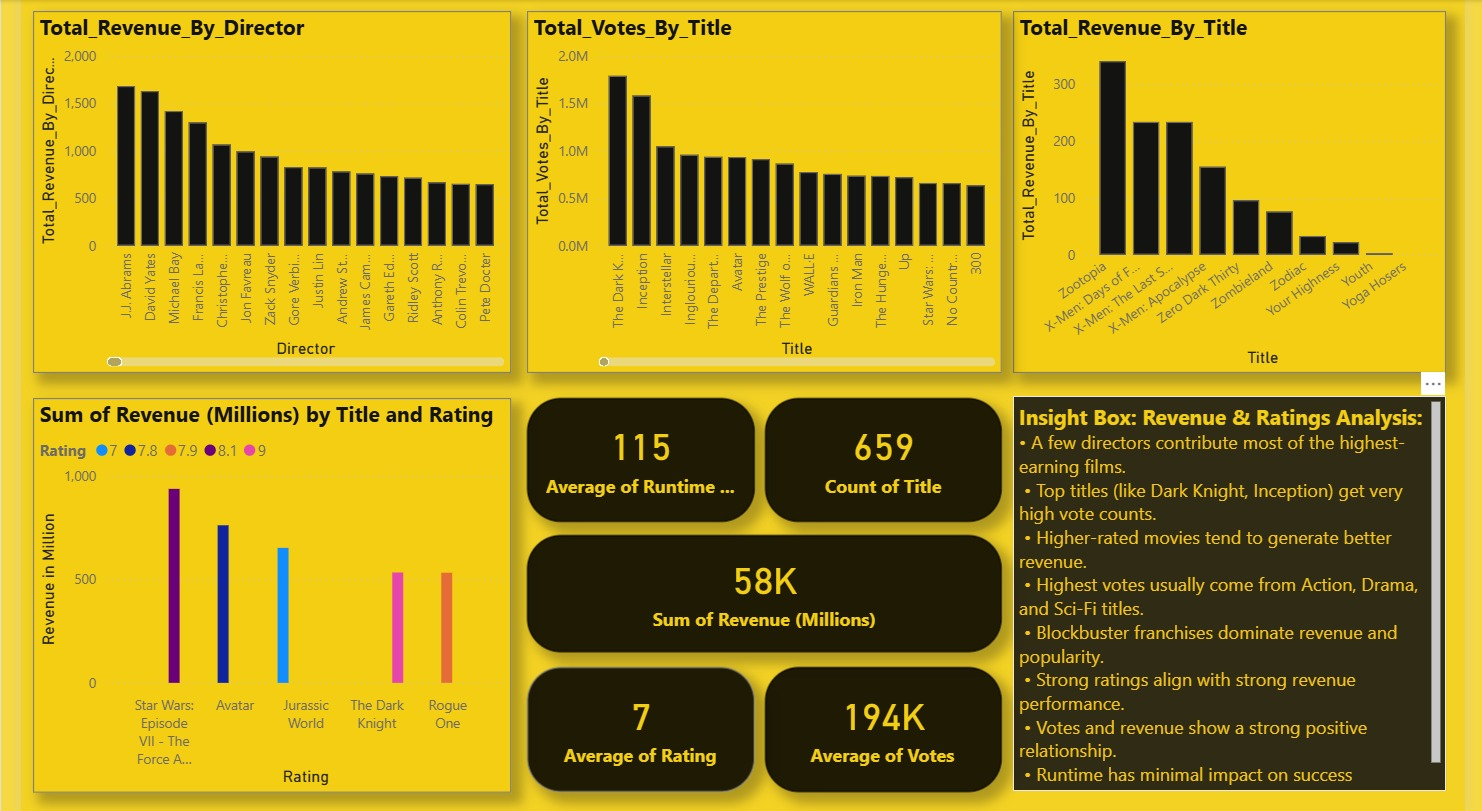

What the dashboard file says about the page in this screenshot:
{"tool":"powerbi","page":{"name":"Top Performers & Box Office Insights","canvas":[1280,720],"ordinal":2},"visuals":[{"type":"columnChart","title":"Total_Revenue_By_Title ","fields":{"Category":["IMDB-Movie-Data.Title"],"Y":["Movie.Total_Revenue_By_Title"]},"box":[879.6,9.6,384.2,321.1],"z":0},{"type":"columnChart","title":"Total_Revenue_By_Director ","fields":{"Category":["IMDB-Movie-Data.Director"],"Y":["Movie.Total_Revenue_By_Director"]},"box":[11,9.6,424,321.1],"z":1000},{"type":"columnChart","title":"Total_Votes_By_Title ","fields":{"Category":["IMDB-Movie-Data.Title"],"Y":["Movie.Total_Votes_By_Title"]},"box":[448.7,9.6,421.3,321.1],"z":2000},{"type":"clusteredColumnChart","fields":{"Category":["Movie.Title"],"Series":["Movie.Rating"],"Y":["Movie.Revenue (Millions)"]},"box":[11,352.7,424,349.9],"z":3000},{"type":"advanceCardE03760C5AB684758B56AA29F9E6C257B","fields":{"mainMeasure":["IMDB-Movie-Data.Rating"]},"box":[448.7,591.4,201.7,111.1],"z":4000},{"type":"advanceCardE03760C5AB684758B56AA29F9E6C257B","fields":{"mainMeasure":["IMDB-Movie-Data.Revenue (Millions)"]},"box":[448.7,474.8,421.3,104.3],"z":5000},{"type":"advanceCardE03760C5AB684758B56AA29F9E6C257B","fields":{"mainMeasure":["IMDB-Movie-Data.Votes"]},"box":[660,591.4,209.9,111.1],"z":6000},{"type":"advanceCardE03760C5AB684758B56AA29F9E6C257B","fields":{"mainMeasure":["IMDB-Movie-Data.Title"]},"box":[660,352.7,209.9,109.8],"z":7000},{"type":"advanceCardE03760C5AB684758B56AA29F9E6C257B","fields":{"mainMeasure":["Movie.Runtime (Minutes)"]},"box":[448.7,352.7,201.7,109.8],"z":8000},{"type":"textbox","box":[879.6,351.3,384.2,349.9],"z":9000}]}

Visuals, with their boxes in screenshot pixels (x1, y1, x2, y2), scaled from the page's 1280x720 canvas onto the 1482x811 screenshot:
"Total_Revenue_By_Title " columnChart: rect(1018, 11, 1463, 372)
"Total_Revenue_By_Director " columnChart: rect(13, 11, 504, 372)
"Total_Votes_By_Title " columnChart: rect(520, 11, 1007, 372)
clusteredColumnChart - Movie.Title x Movie.Rating: rect(13, 397, 504, 791)
advanceCardE03760C5AB684758B56AA29F9E6C257B - IMDB-Movie-Data.Rating: rect(520, 666, 753, 791)
advanceCardE03760C5AB684758B56AA29F9E6C257B - IMDB-Movie-Data.Revenue (Millions): rect(520, 535, 1007, 652)
advanceCardE03760C5AB684758B56AA29F9E6C257B - IMDB-Movie-Data.Votes: rect(764, 666, 1007, 791)
advanceCardE03760C5AB684758B56AA29F9E6C257B - IMDB-Movie-Data.Title: rect(764, 397, 1007, 521)
advanceCardE03760C5AB684758B56AA29F9E6C257B - Movie.Runtime (Minutes): rect(520, 397, 753, 521)
textbox: rect(1018, 396, 1463, 790)
